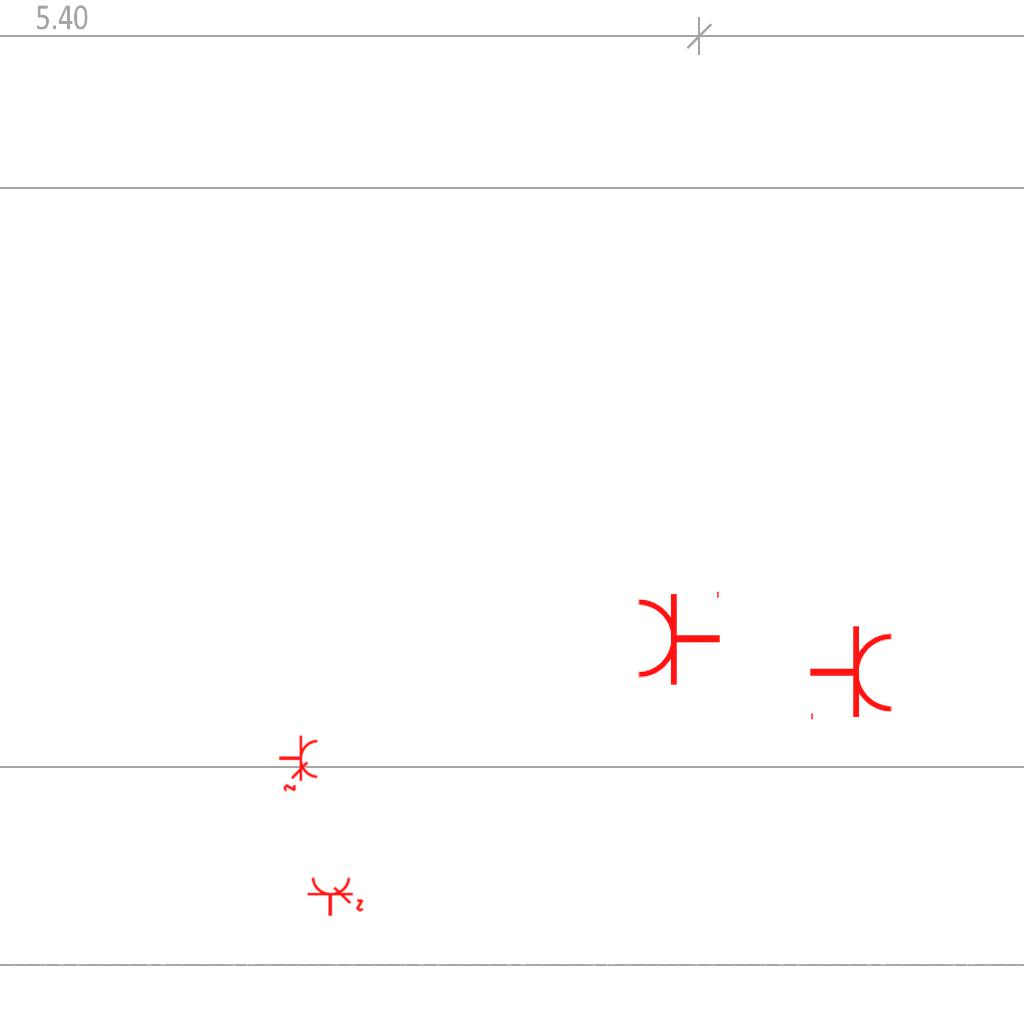Schukosteckdose_einfach: (808, 624, 895, 724), (635, 587, 722, 687)
Schukosteckdose_mehrfach: (276, 733, 320, 793), (305, 875, 365, 919)
